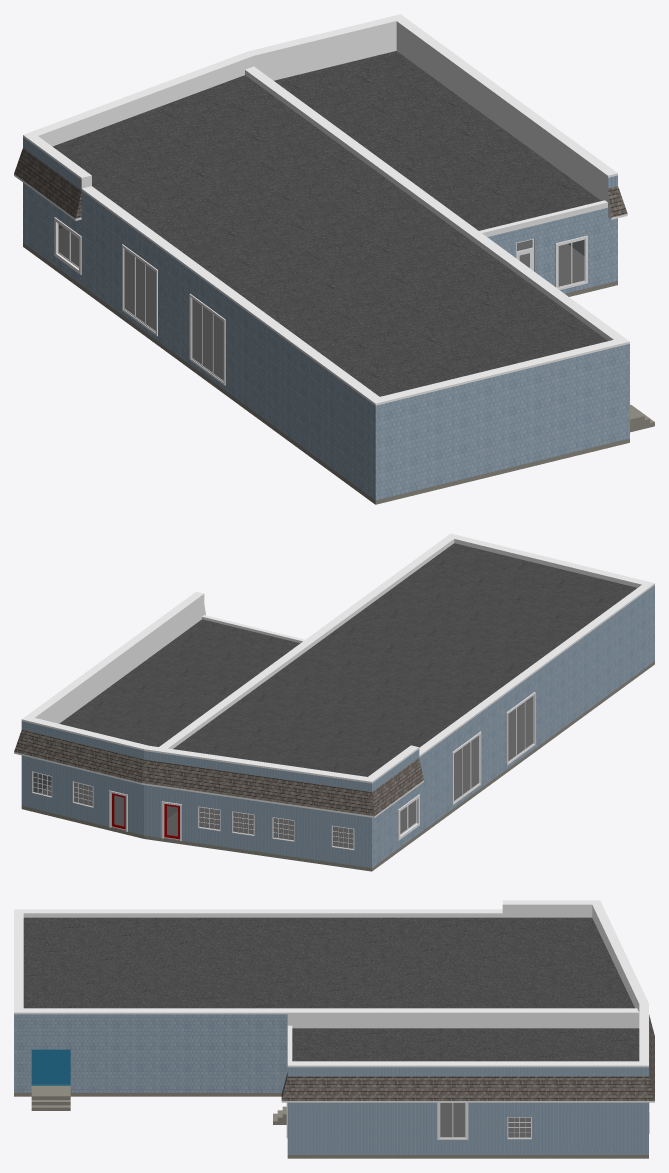
File: Blaisdale Montessori School_Rougemount Campus.fbx
3 renders of one model, top to bottom at view 1: azimuth 30°, elevation 25°; view 2: azimuth 150°, elevation 25°; view 3: azimuth 270°, elevation 25°, orthographic. The views are drawn at different scales.
Visible parts, largest first — view 1: Blaisdale Montessori School_Rougemount Campus_SUNPARK (versi; view 2: Blaisdale Montessori School_Rougemount Campus_SUNPARK (versi; view 3: Blaisdale Montessori School_Rougemount Campus_SUNPARK (versi.
Part boxes in pixels (x1=…): Blaisdale Montessori School_Rougemount Campus_SUNPARK (versi: x1=14, y1=14, x2=654, y2=504; Blaisdale Montessori School_Rougemount Campus_SUNPARK (versi: x1=14, y1=533, x2=654, y2=871; Blaisdale Montessori School_Rougemount Campus_SUNPARK (versi: x1=14, y1=900, x2=654, y2=1158.
Size of the model in its own units: 2060 by 525 by 3280.
Materials: 10 (6 with a texture image).
